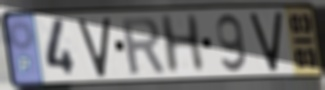4: (43, 16, 80, 81)
9: (214, 12, 249, 75)
H: (157, 12, 208, 77)
R: (118, 15, 167, 77)
V: (247, 9, 284, 74), (75, 15, 112, 79)
